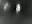person: (16, 5, 21, 16), (4, 4, 9, 13)
